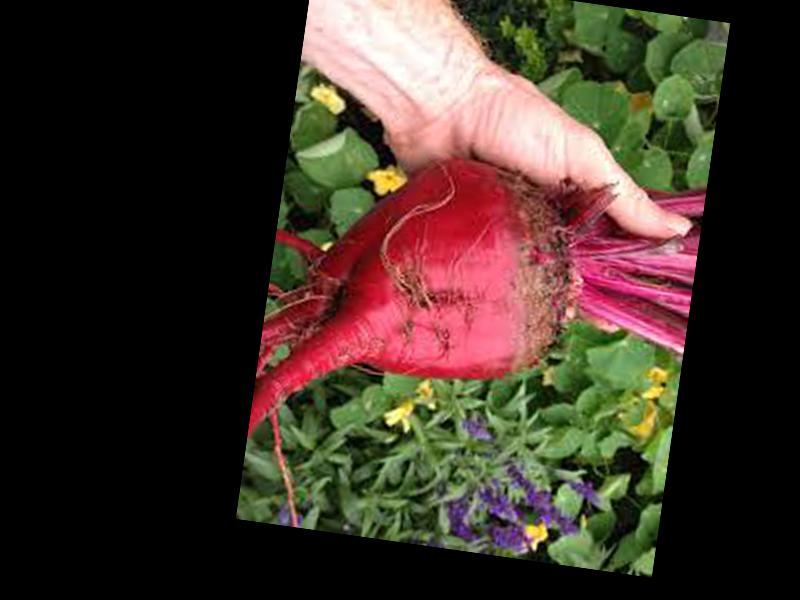Beet: (248, 133, 703, 488)
